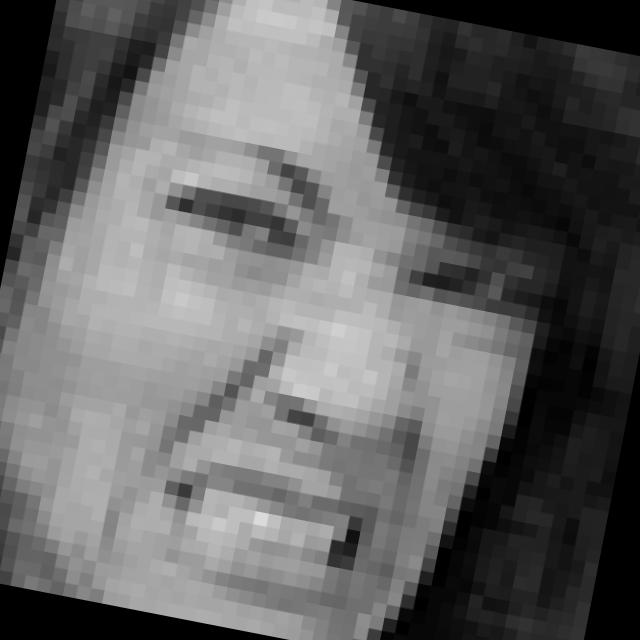disgust: (86, 123, 569, 640)
